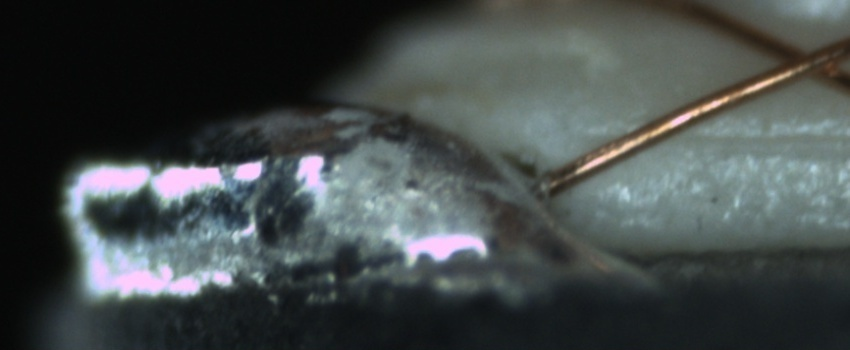CL: (750, 27, 847, 91)
DL: (615, 104, 846, 171)
